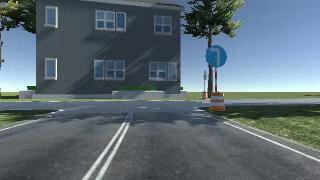turn_left: (205, 45, 226, 67)
